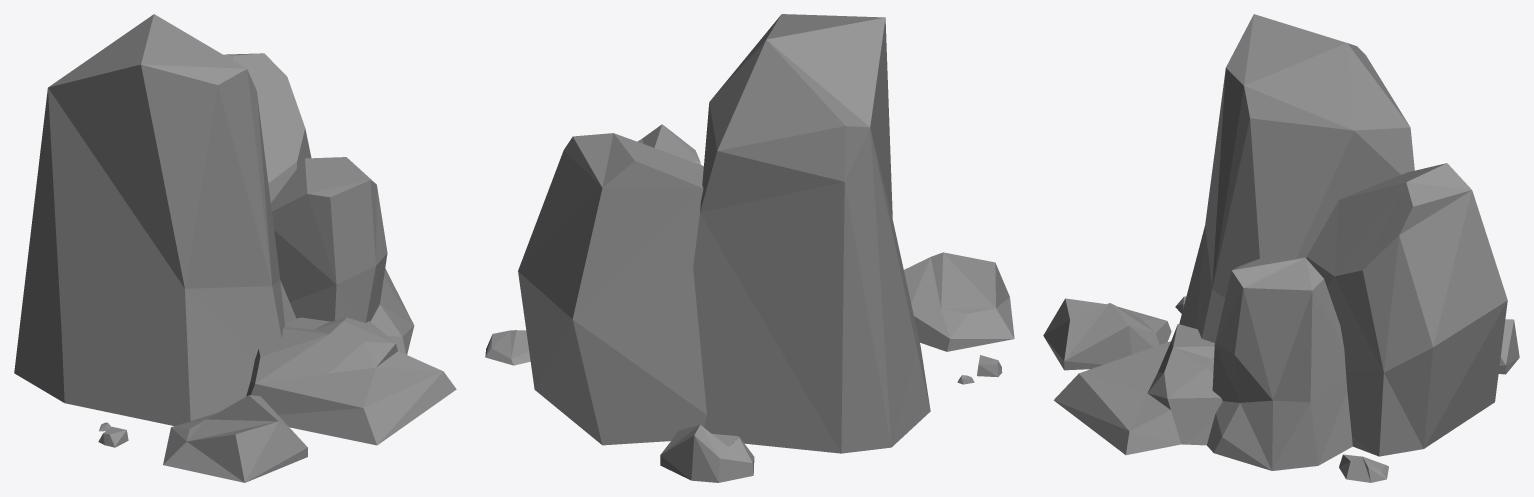
The model's file is Stone_B_01.FBX.
3 views of the same model, side by side, from view 1: azimuth 30°, elevation 25°; view 2: azimuth 150°, elevation 25°; view 3: azimuth 270°, elevation 25° (orthographic). The views are drawn at different scales.
Parts seen in each view (by area): view 1: Stone_B_01; view 2: Stone_B_01; view 3: Stone_B_01.
Part boxes in pixels (x1,y1,x2,y2): Stone_B_01: (14,14,456,482); Stone_B_01: (485,14,1014,482); Stone_B_01: (1043,14,1519,482).
Size of the model in its own units: 6.61 by 5.58 by 7.43.
